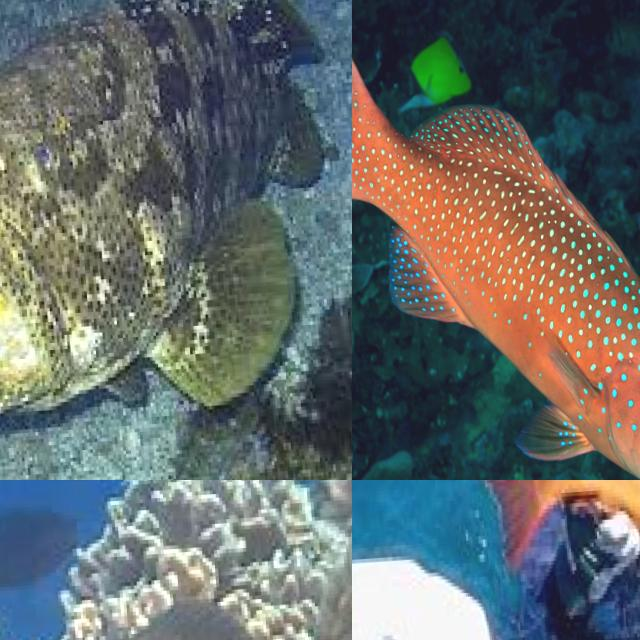Leopard coral grouper: (0, 0, 352, 460), (352, 0, 640, 480), (0, 563, 352, 640), (463, 480, 640, 586)
